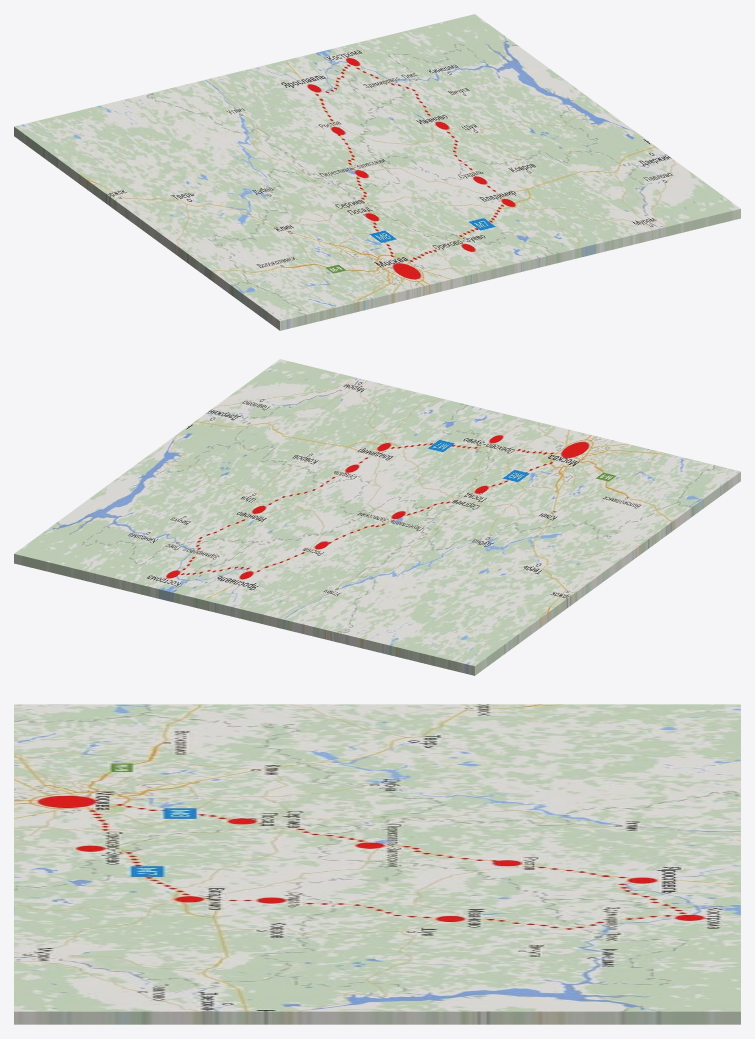
File: Map.fbx
3 renders of one model, top to bottom at view 1: azimuth 30°, elevation 25°; view 2: azimuth 150°, elevation 25°; view 3: azimuth 270°, elevation 25°, orthographic. The views are drawn at different scales.
Visible parts, largest first — view 1: Plane, Plane.001; view 2: Plane.001, Plane; view 3: Plane, Plane.001.
Part boxes in pixels (x1,y1,x2,y2): Plane: [147, 111, 740, 330]; Plane.001: [14, 14, 607, 232]; Plane.001: [14, 456, 607, 675]; Plane: [147, 359, 740, 577]; Plane: [14, 704, 377, 1024]; Plane.001: [377, 704, 740, 1024].
Bounding box in the file's own units: 200 × 4 × 200.
Materials: 1 (1 with a texture image).
